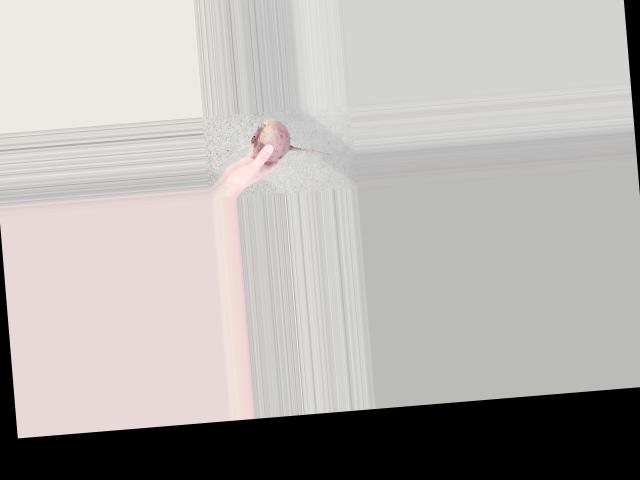beet: (249, 114, 330, 163)
